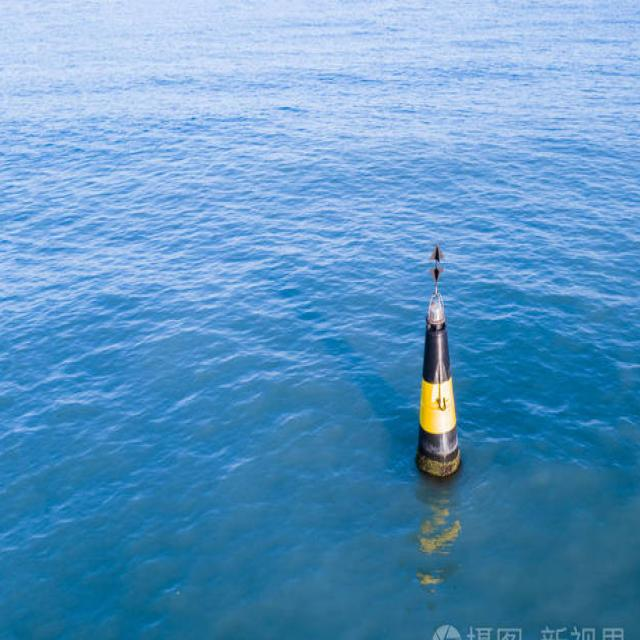buoy: (410, 227, 462, 494)
